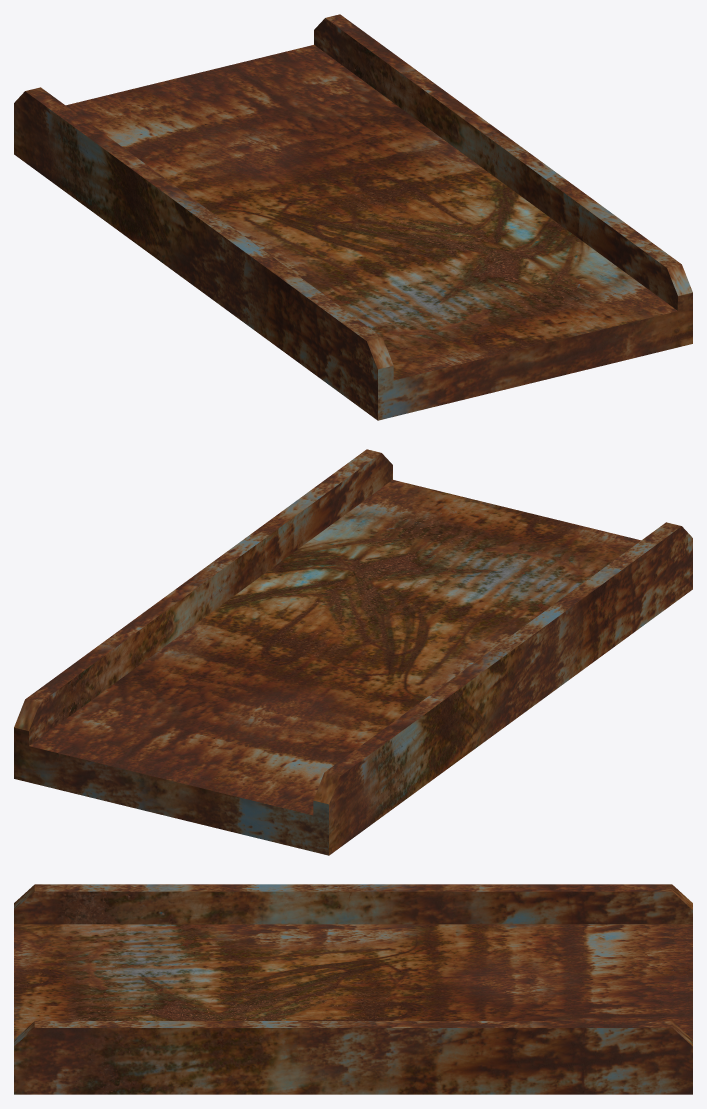
Rendered from Bridge.fbx.
3 renders of one model, top to bottom at view 1: azimuth 30°, elevation 25°; view 2: azimuth 150°, elevation 25°; view 3: azimuth 270°, elevation 25°, orthographic. The views are drawn at different scales.
Visible parts, largest first — view 1: Bridge; view 2: Bridge; view 3: Bridge.
Part boxes in pixels (x1=…): Bridge: x1=14, y1=14, x2=692, y2=420; Bridge: x1=14, y1=449, x2=692, y2=855; Bridge: x1=14, y1=884, x2=692, y2=1094.
Size of the model in its own units: 600 by 130 by 1200.
Materials: 1 (1 with a texture image).
